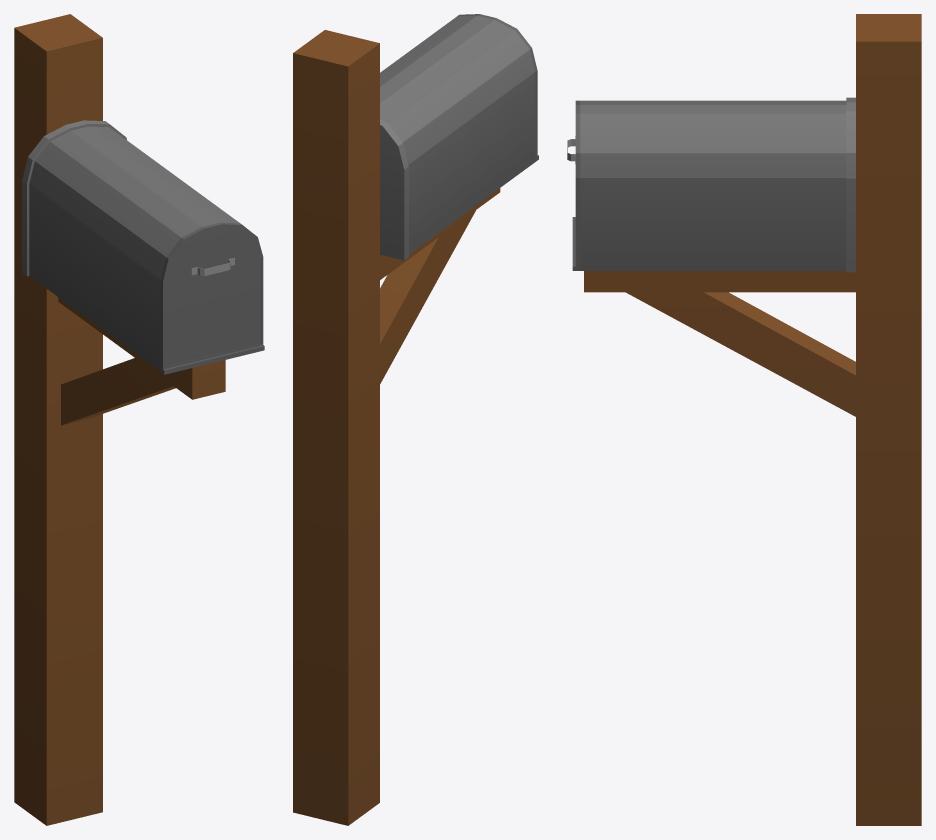
Rendered from Prop_Letterbox_01.obj.
3 renders of one model, left to right at view 1: azimuth 30°, elevation 25°; view 2: azimuth 150°, elevation 25°; view 3: azimuth 270°, elevation 25°, orthographic. The views are drawn at different scales.
Parts seen in each view (by area): view 1: Prop_Letterbox_01, Prop_Letterbox_Door_01; view 2: Prop_Letterbox_01, Prop_Letterbox_Door_01; view 3: Prop_Letterbox_01, Prop_Letterbox_Door_01.
Part boxes in pixels (box(x1,y1,x2,y2)): Prop_Letterbox_01: box(14, 14, 239, 825); Prop_Letterbox_Door_01: box(160, 222, 264, 374); Prop_Letterbox_01: box(293, 15, 535, 825); Prop_Letterbox_Door_01: box(457, 14, 538, 161); Prop_Letterbox_01: box(580, 14, 921, 825); Prop_Letterbox_Door_01: box(567, 100, 580, 270).
Size of the model in its own units: 0.2054 by 1.44 by 0.5909.
1 material, 1 textured.
